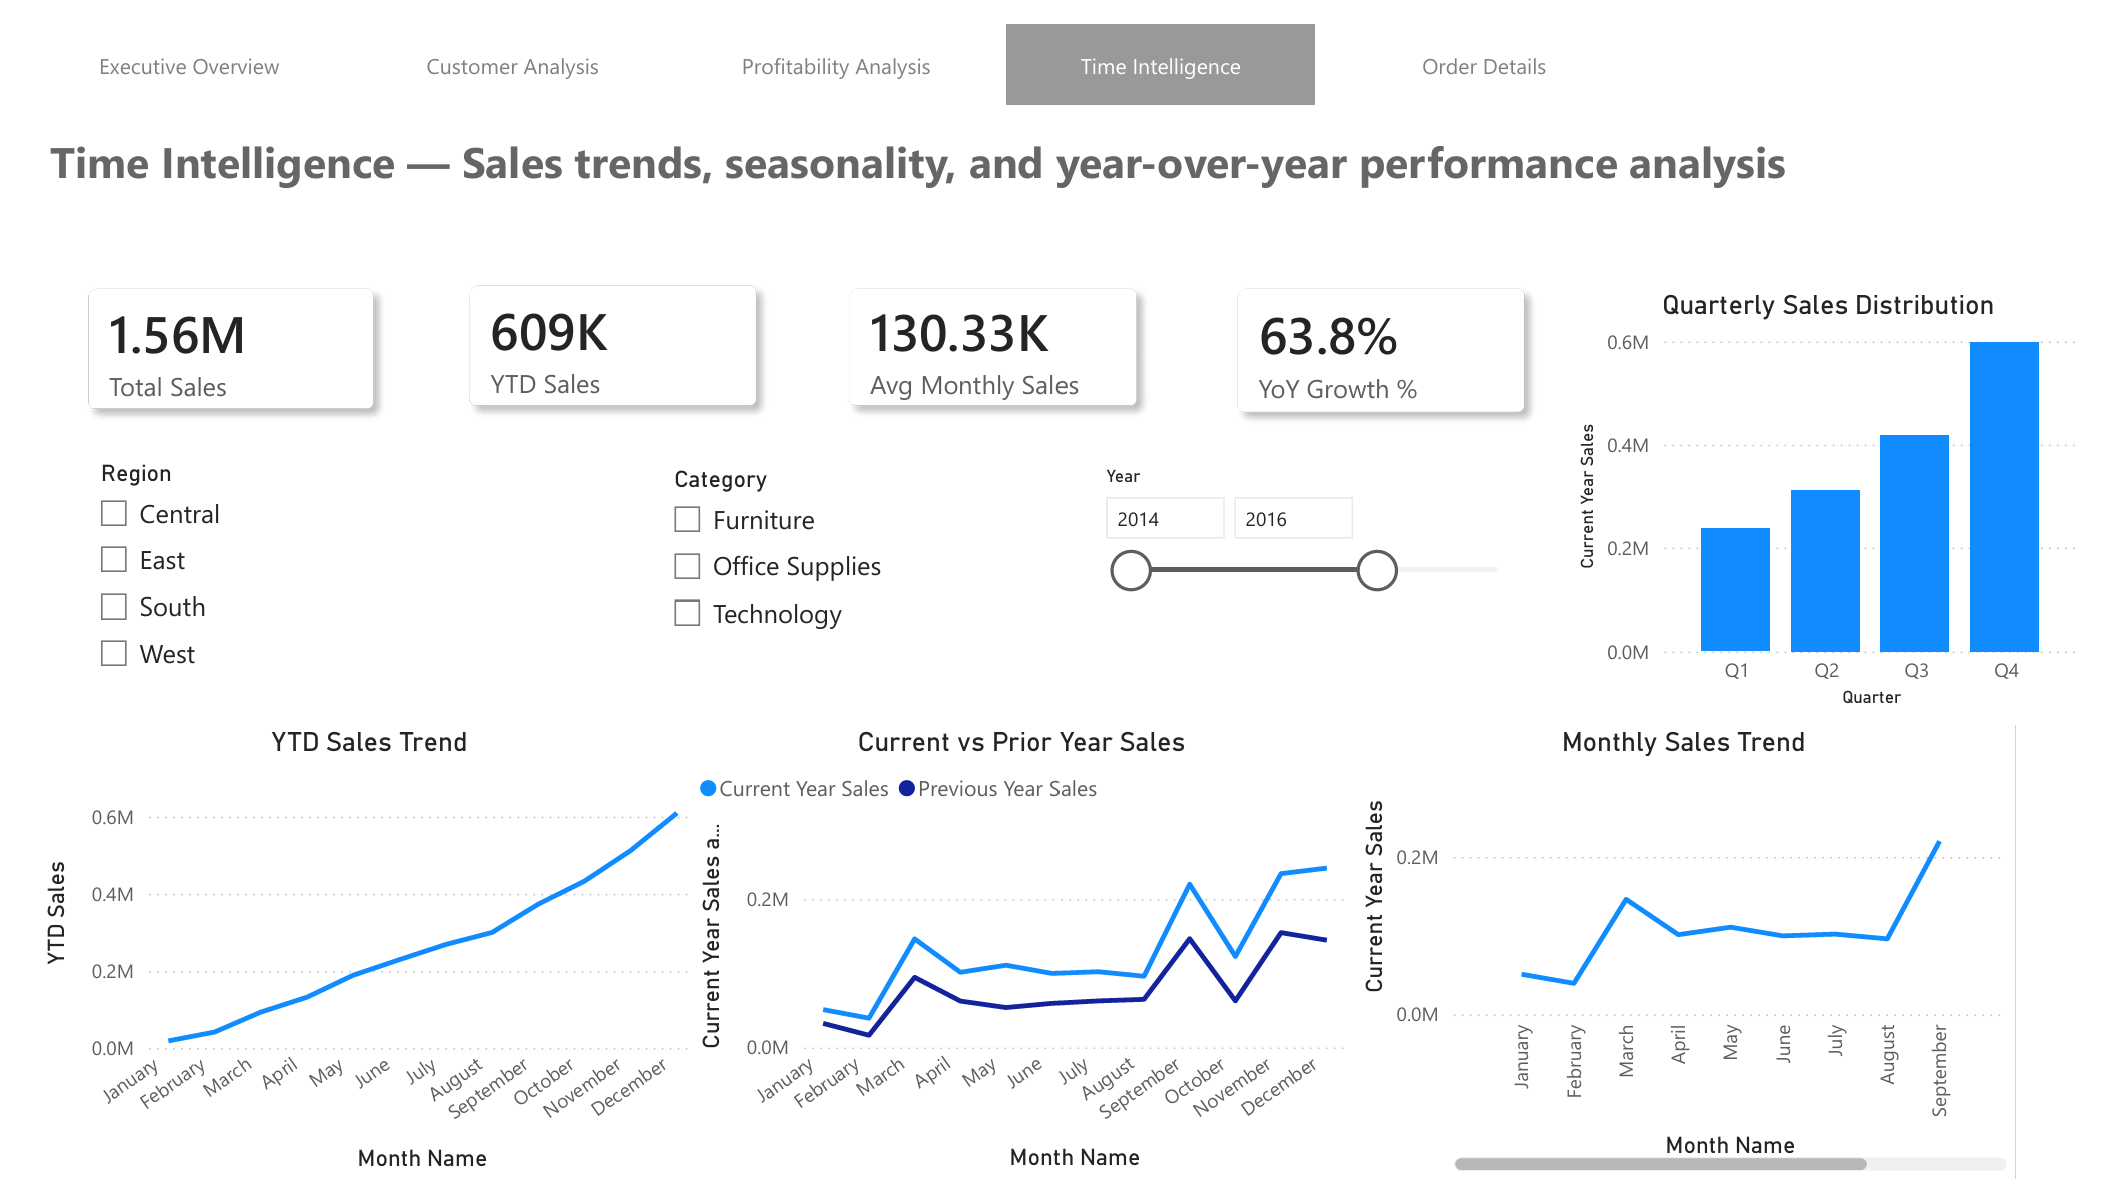

The page's visual inventory and layout, read from the dashboard file:
{"tool":"powerbi","page":{"name":"Time Intelligence","canvas":[1280,720],"ordinal":3},"visuals":[{"type":"shape","box":[0,437.4,1236,282.1],"z":0},{"type":"lineChart","title":"YTD Sales Trend","fields":{"Category":["DateTable.Month Name"],"Y":["Measures Table.YTD Sales TI"]},"box":[0,437.4,416.6,282.1],"z":1000},{"type":"cardVisual","fields":{"Data":["Measures Table.YoY Growth % TI"]},"box":[721.4,136.3,236.7,134.4],"z":2000},{"type":"lineChart","title":"Monthly Sales Trend","fields":{"Category":["DateTable.Month Name"],"Y":["Measures Table.Total Sales TI"]},"box":[821.8,437.4,412.8,282.1],"z":3000},{"type":"slicer","fields":{"Values":["DateTable.Year"]},"box":[655.1,270.8,280.2,140.1],"z":4000},{"type":"lineChart","title":"Current vs Prior Year Sales","fields":{"Category":["DateTable.Month Name"],"Y":["Measures Table.Total Sales TI","Measures Table.Previous Year Sales TI"]},"box":[409,437.4,412.8,282.1],"z":5000},{"type":"clusteredColumnChart","title":"Quarterly Sales Distribution","fields":{"Category":["DateTable.Quarter"],"Y":["Measures Table.Total Sales TI"]},"box":[958.1,164.7,321.9,265.1],"z":6000},{"type":"slicer","title":"Region","fields":{"Values":["public orders_clean.region"]},"box":[28.4,267,189.3,162.8],"z":7000},{"type":"slicer","fields":{"Values":["public orders_clean.category"]},"box":[386.3,270.8,187.5,159.1],"z":8000},{"type":"cardVisual","fields":{"Data":["Measures Table.Avg Monthly Sales TI"]},"box":[479.1,136.3,236.7,130.7],"z":9000},{"type":"cardVisual","fields":{"Data":["Sum(public orders_clean.sales)"]},"box":[3.8,136.3,236.7,132.5],"z":10000},{"type":"cardVisual","fields":{"Data":["Measures Table.YTD Sales TI"]},"box":[242.4,134.4,236.7,132.5],"z":11000},{"type":"textbox","box":[3.8,62.5,1208,72],"z":12000},{"type":"pageNavigator","box":[0,0,1000,50],"z":12001}]}

Visuals, with their boxes in screenshot pixels (x1, y1, x2, y2), scaled from the page's 1280x720 canvas onto the 2110x1198 screenshot:
shape: BBox(0, 728, 2037, 1197)
"YTD Sales Trend" lineChart: BBox(0, 728, 687, 1197)
cardVisual - Measures Table.YoY Growth % TI: BBox(1189, 227, 1579, 450)
"Monthly Sales Trend" lineChart: BBox(1355, 728, 2035, 1197)
slicer - DateTable.Year: BBox(1080, 451, 1542, 684)
"Current vs Prior Year Sales" lineChart: BBox(674, 728, 1355, 1197)
"Quarterly Sales Distribution" clusteredColumnChart: BBox(1579, 274, 2109, 715)
"Region" slicer: BBox(47, 444, 359, 715)
slicer - public orders_clean.category: BBox(637, 451, 946, 715)
cardVisual - Measures Table.Avg Monthly Sales TI: BBox(790, 227, 1180, 444)
cardVisual - Sum(public orders_clean.sales): BBox(6, 227, 396, 447)
cardVisual - Measures Table.YTD Sales TI: BBox(400, 224, 790, 444)
textbox: BBox(6, 104, 1998, 224)
pageNavigator: BBox(0, 0, 1648, 83)
